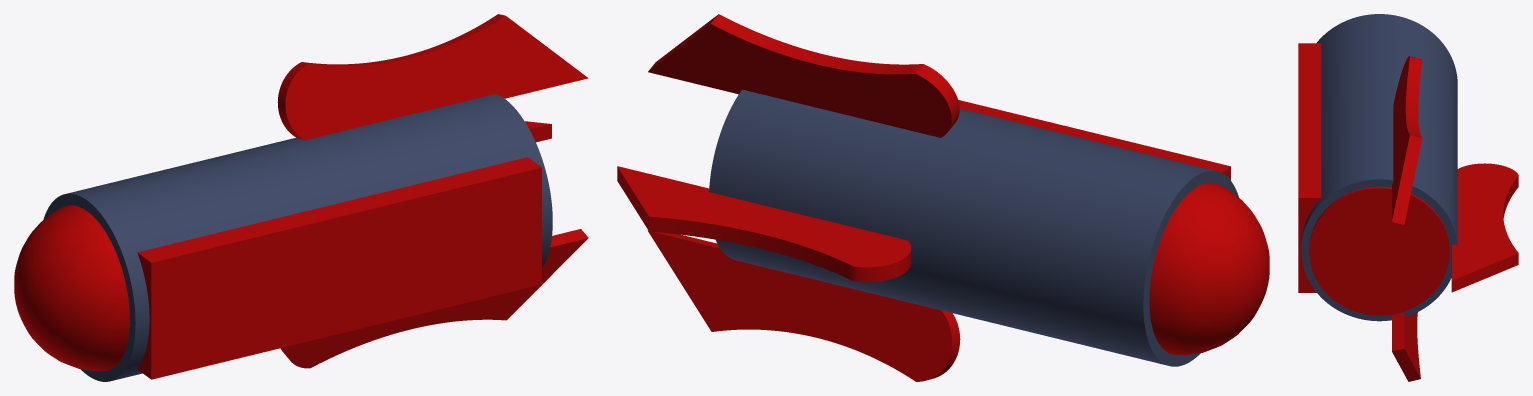
Rendered from Rocket.fbx.
The picture shows the model from 3 angles, left to right: view 1: azimuth 30°, elevation 25°; view 2: azimuth 150°, elevation 25°; view 3: azimuth 270°, elevation 25°; orthographic projection. The views are drawn at different scales.
Visible parts, largest first — view 1: Cube, Rocket, 4_1_2D_2, 2_1_2D, 4_1_2D_3; view 2: Rocket, 4_1_2D_3, 4_1_2D_2, 2_1_2D, 4_1_2D, Cube; view 3: Rocket, Cylinder, 4_1_2D, Cube, 4_1_2D_2, 4_1_2D_3.
Part boxes in pixels (bbox=[...]): Cube: bbox=[137, 157, 541, 379]; Rocket: bbox=[43, 94, 552, 381]; 4_1_2D_2: bbox=[277, 14, 588, 140]; 2_1_2D: bbox=[14, 205, 129, 371]; 4_1_2D_3: bbox=[280, 229, 588, 368]; Rocket: bbox=[709, 89, 1238, 366]; 4_1_2D_3: bbox=[648, 230, 960, 381]; 4_1_2D_2: bbox=[648, 14, 959, 137]; 2_1_2D: bbox=[1149, 182, 1269, 355]; 4_1_2D: bbox=[617, 166, 911, 282]; Cube: bbox=[958, 100, 1230, 180]; Rocket: bbox=[1301, 14, 1457, 321]; Cylinder: bbox=[1309, 186, 1449, 315]; 4_1_2D: bbox=[1451, 163, 1518, 292]; Cube: bbox=[1298, 43, 1321, 292]; 4_1_2D_2: bbox=[1392, 56, 1422, 224]; 4_1_2D_3: bbox=[1392, 312, 1420, 381].
Size of the model in its own units: 808 by 411 by 333.
